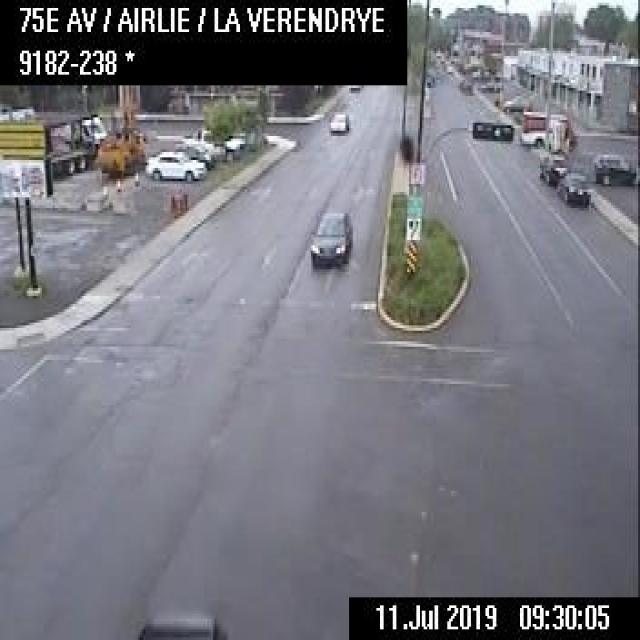construction: (97, 83, 144, 175), (169, 187, 188, 217)
vehicle: (44, 115, 96, 176), (517, 108, 575, 149), (309, 208, 349, 264), (131, 614, 224, 638), (143, 147, 205, 179), (592, 149, 637, 185), (538, 151, 568, 185), (559, 171, 587, 203), (502, 90, 530, 111), (329, 112, 347, 128)
